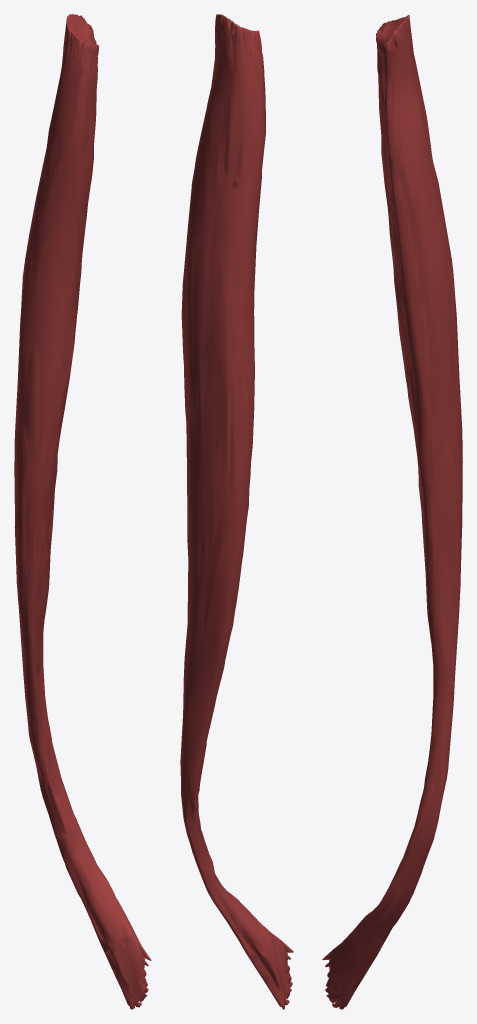
File: semitendinosus-muscle-r.glb
The picture shows the model from 3 angles, left to right: view 1: azimuth 90°, elevation 25°; view 2: azimuth 150°, elevation 25°; view 3: azimuth 270°, elevation 25°; orthographic projection. The views are drawn at different scales.
Visible parts, largest first — view 1: Semitendinosus muscle.r; view 2: Semitendinosus muscle.r; view 3: Semitendinosus muscle.r.
Part boxes in pixels (x1,y1,x2,y2): Semitendinosus muscle.r: (14, 14, 151, 1009); Semitendinosus muscle.r: (180, 14, 293, 1009); Semitendinosus muscle.r: (322, 14, 462, 1009).
Bounding box in the file's own units: 0.036 × 0.4599 × 0.0582.
